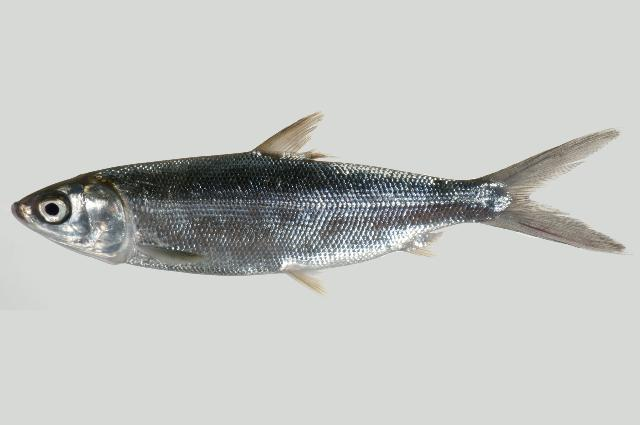Mulut: (0, 179, 50, 249)
Sirip Anal: (382, 218, 458, 272)
Sirip Dada: (126, 228, 207, 282)
Sirip Ekor: (465, 113, 637, 273)
Sirip Perut: (269, 250, 343, 312)
Sirip Punggung: (239, 98, 347, 182)
